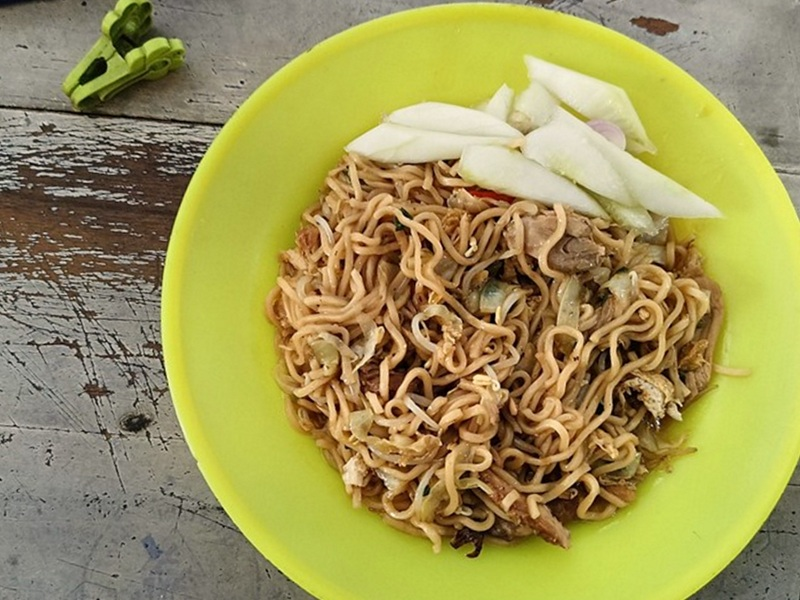Mie Goreng: (116, 88, 694, 522)
